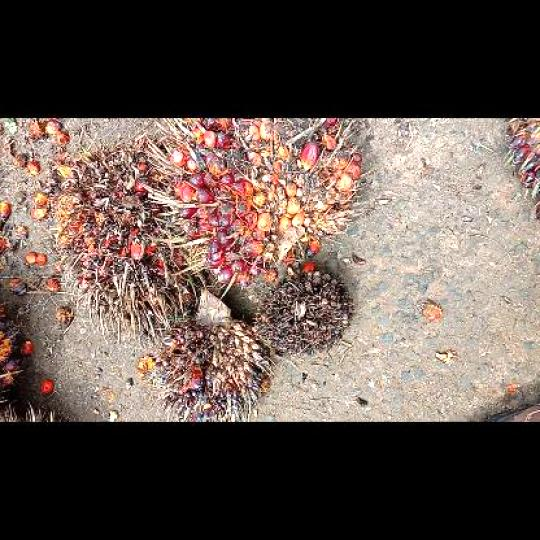masak: (147, 119, 367, 289)
terlalu masak: (51, 136, 208, 347)
